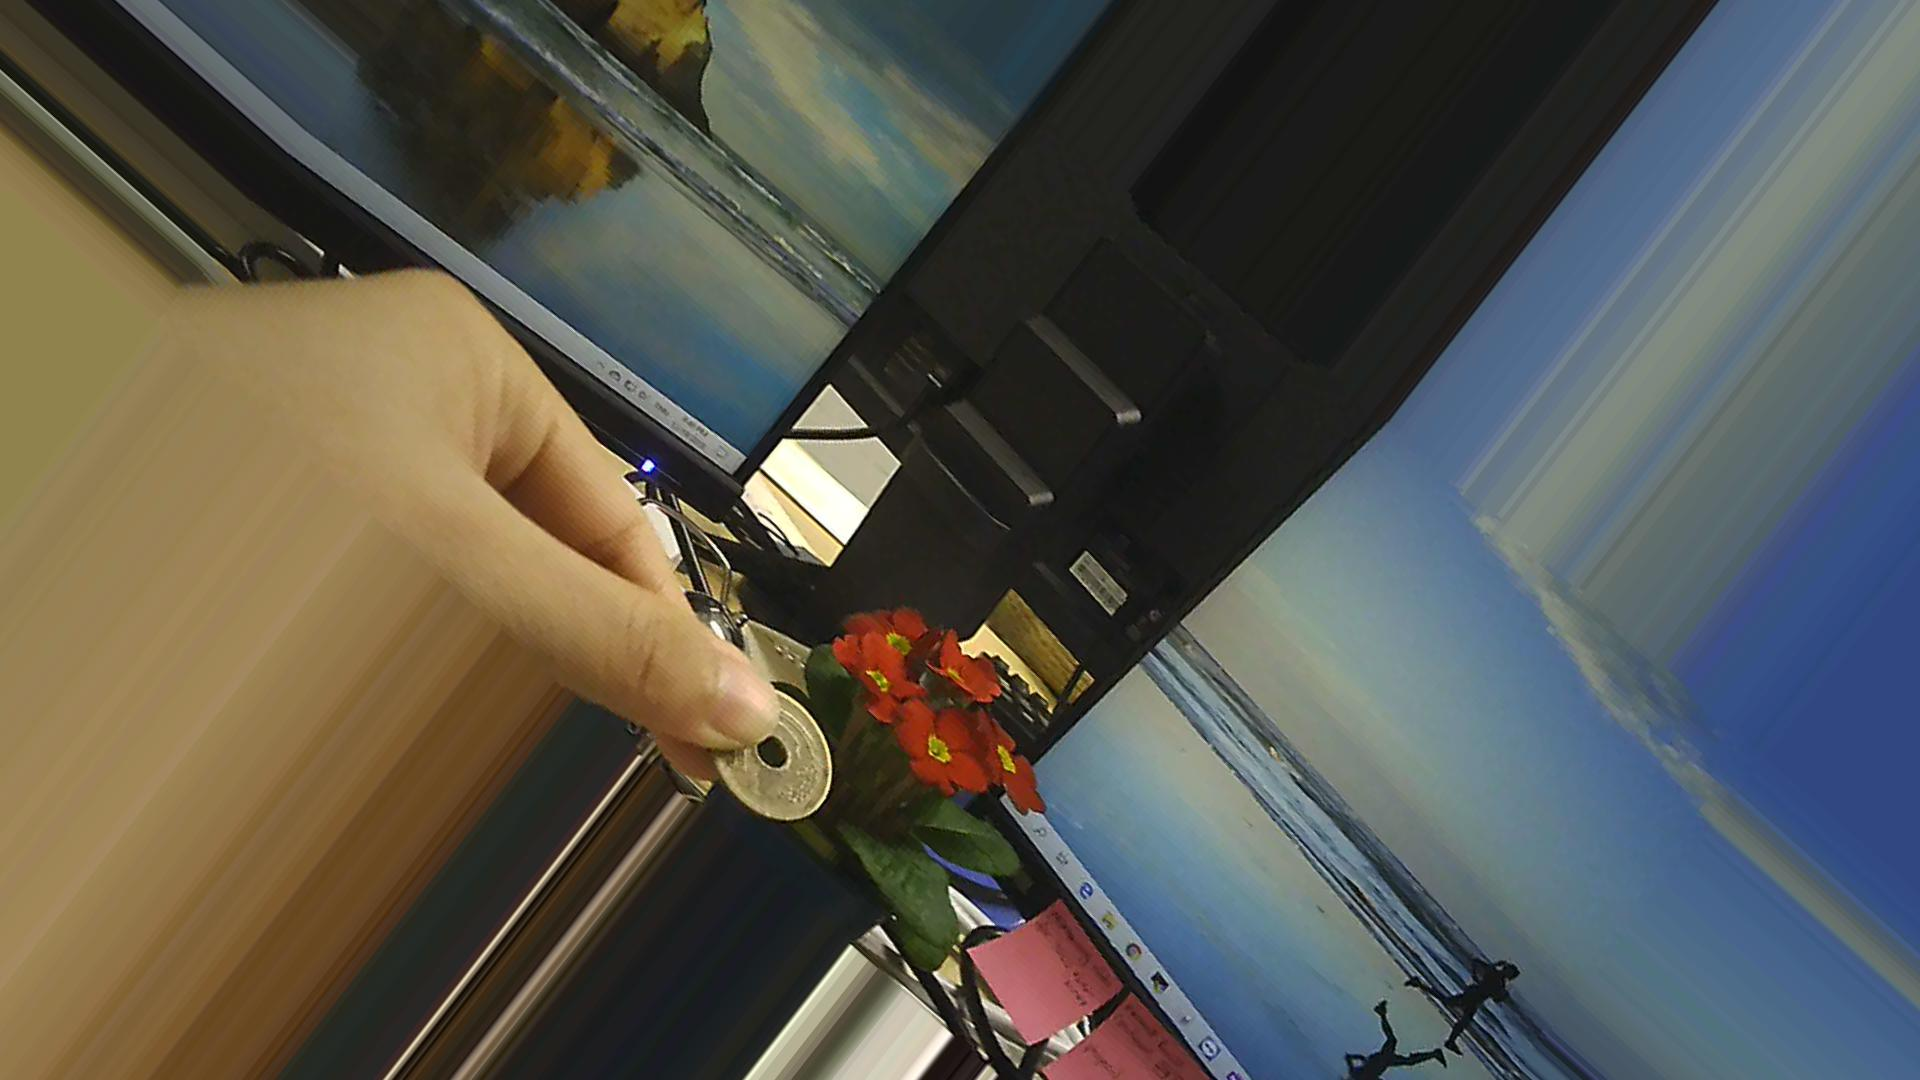5 Yen: (682, 680, 851, 835)
